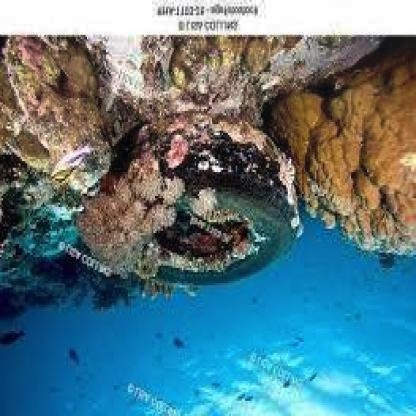tire: (168, 126, 292, 300)
